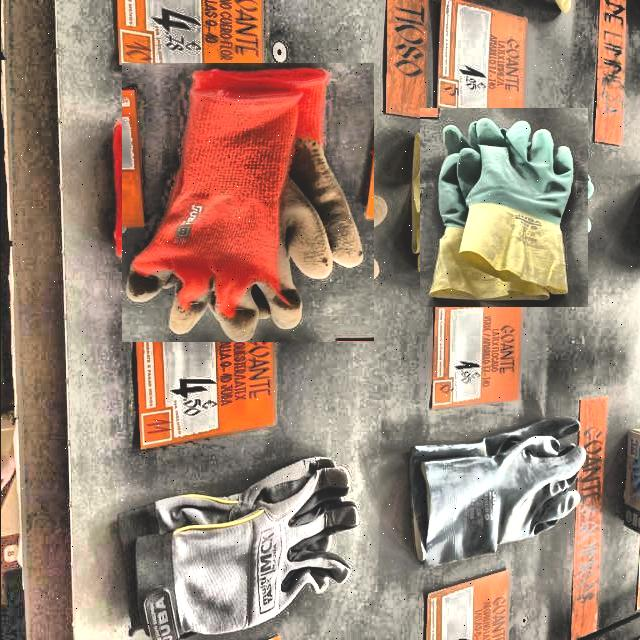gloved: (114, 69, 380, 335), (118, 445, 367, 640), (405, 395, 587, 592), (412, 116, 596, 300)
